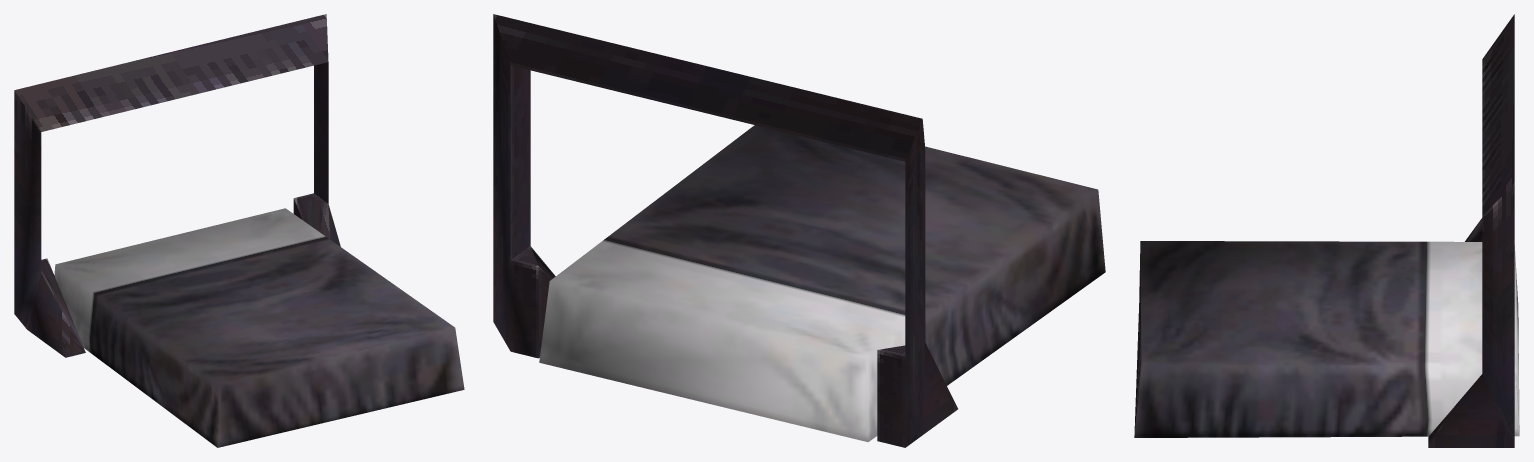
File: frn_all_bed_lg_s1_l3.fbx
3 views of the same model, side by side, from view 1: azimuth 30°, elevation 25°; view 2: azimuth 150°, elevation 25°; view 3: azimuth 270°, elevation 25° (orthographic). The views are drawn at different scales.
Visible parts, largest first — view 1: mesh_node; view 2: mesh_node; view 3: mesh_node.
Boxes of the visible parts, x1,y1,x2,y2 form: mesh_node: (14, 14, 464, 447); mesh_node: (493, 14, 1105, 447); mesh_node: (1134, 14, 1519, 447).
Size of the model in its own units: 2.07 by 1.54 by 1.98.
